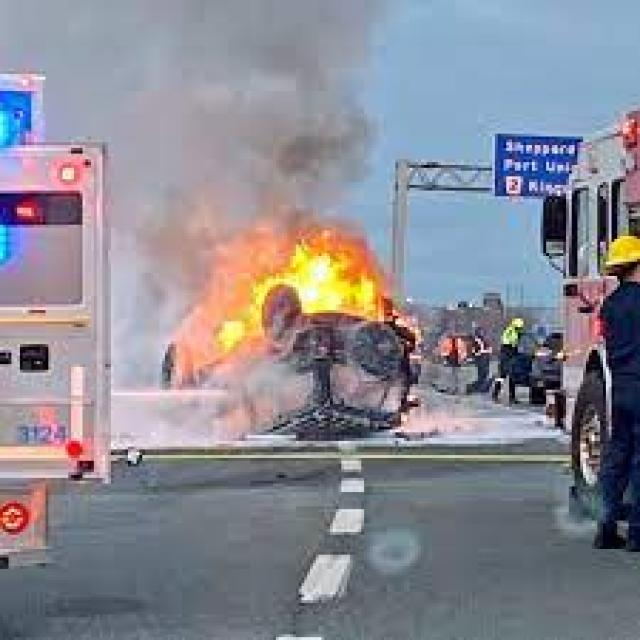fire: (216, 233, 387, 353)
smoke: (111, 3, 381, 233), (111, 3, 210, 330), (170, 358, 447, 441)
